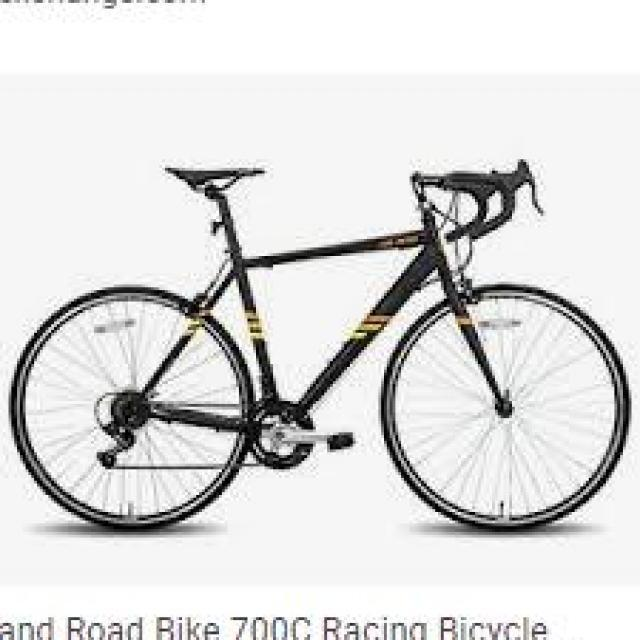bicycle: (10, 152, 613, 539)
